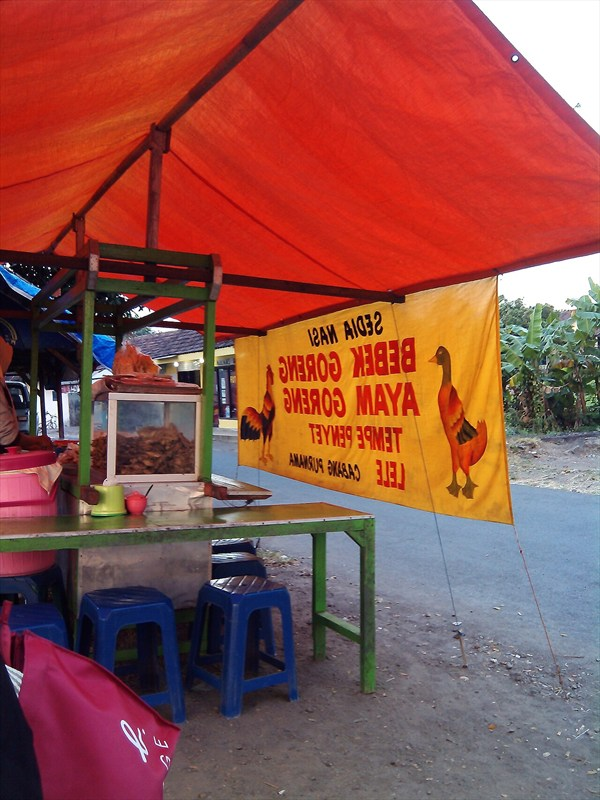Ayam Goreng: (50, 159, 542, 521)
